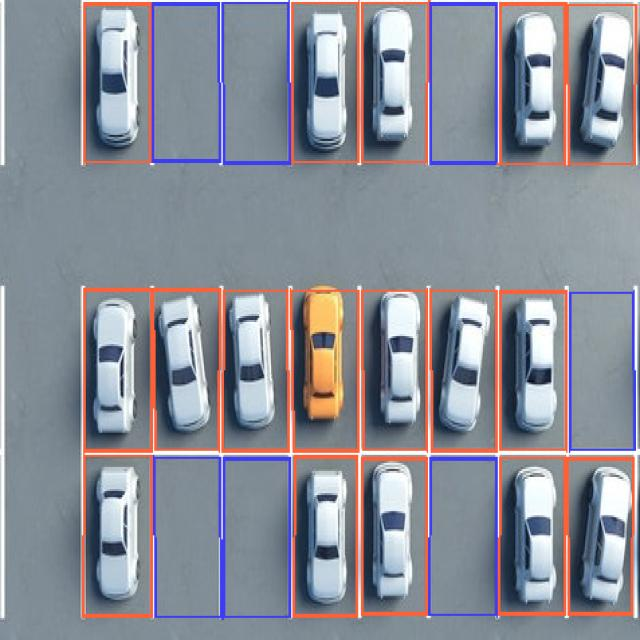space-empty: (0, 0, 85, 171), (149, 4, 228, 165), (219, 451, 295, 618), (565, 288, 639, 453), (429, 4, 502, 165), (430, 449, 500, 614), (226, 0, 295, 162), (157, 454, 222, 620)
space-occupied: (80, 451, 156, 618), (360, 286, 432, 455), (149, 286, 221, 455), (288, 288, 361, 453), (80, 2, 153, 167), (496, 288, 569, 453), (219, 288, 291, 455), (427, 288, 499, 455), (79, 286, 150, 455), (288, 0, 361, 163), (565, 4, 636, 165), (495, 0, 565, 163), (292, 449, 361, 614), (569, 449, 637, 614), (498, 449, 566, 614), (360, 449, 421, 614), (359, 2, 418, 161)
